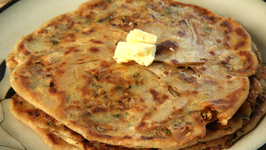aloo_paratha: (9, 1, 265, 149)
